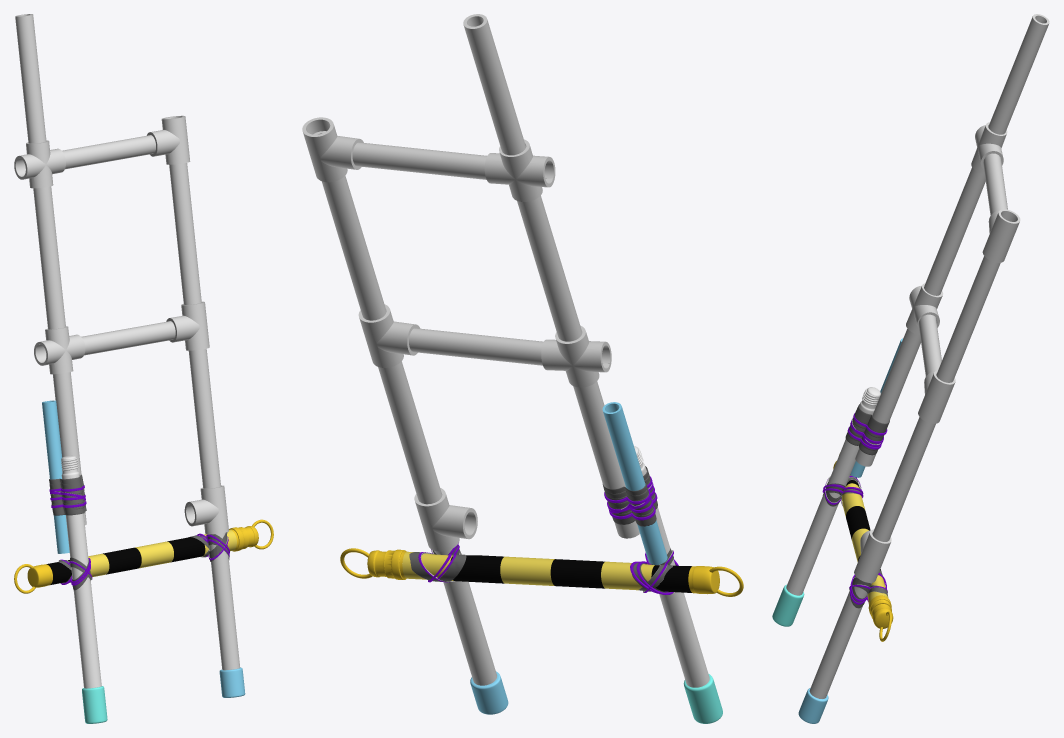
The model's file is WebLadder.glb.
3 renders of one model, left to right at view 1: azimuth 30°, elevation 25°; view 2: azimuth 150°, elevation 25°; view 3: azimuth 270°, elevation 25°, orthographic. The views are drawn at different scales.
Parts seen in each view (by area): view 1: Joint2, Tube_8, Tube, Tube_11, ConnectorX_1, ConnectorX, Tube_2, Connector_2, Connector, Connector_1, Cylinder; view 2: Joint2, Tube_8, Tube, Tube_11, ConnectorX_1, ConnectorX, Tube_2, Connector, Connector_2, Connector_1, Cylinder; view 3: Joint2, Tube_8, Connector, Connector_2, Connector_1, Tube_11, Tube, ConnectorX, ConnectorX_1, Cylinder.
Boxes of the visible parts, bbox=[...] form: Joint2: bbox=[27, 163, 258, 723]; Tube_8: bbox=[15, 14, 86, 525]; Tube: bbox=[81, 321, 175, 355]; Tube_11: bbox=[62, 135, 155, 169]; ConnectorX_1: bbox=[14, 140, 65, 188]; ConnectorX: bbox=[34, 326, 85, 374]; Tube_2: bbox=[42, 400, 69, 553]; Connector_2: bbox=[184, 485, 228, 534]; Connector: bbox=[147, 115, 190, 164]; Connector_1: bbox=[166, 301, 209, 350]; Cylinder: bbox=[219, 667, 245, 697]; Joint2: bbox=[313, 131, 722, 723]; Tube_8: bbox=[463, 14, 639, 538]; Tube: bbox=[409, 328, 543, 365]; Tube_11: bbox=[352, 142, 486, 179]; ConnectorX_1: bbox=[484, 139, 555, 201]; ConnectorX: bbox=[541, 325, 611, 387]; Tube_2: bbox=[602, 402, 667, 564]; Connector: bbox=[302, 117, 363, 182]; Connector_2: bbox=[414, 488, 477, 551]; Connector_1: bbox=[358, 304, 420, 367]; Cylinder: bbox=[470, 671, 508, 714]; Joint2: bbox=[772, 256, 1000, 698]; Tube_8: bbox=[855, 14, 1049, 466]; Connector: bbox=[982, 209, 1020, 262]; Connector_2: bbox=[854, 529, 891, 582]; Connector_1: bbox=[918, 370, 955, 423]; Tube_11: bbox=[983, 153, 1007, 215]; Tube: bbox=[918, 314, 941, 376]; ConnectorX: bbox=[906, 283, 943, 335]; ConnectorX_1: bbox=[971, 122, 1007, 174]; Cylinder: bbox=[798, 688, 828, 723].
Size of the model in its own units: 1.7 by 3.63 by 1.39.
